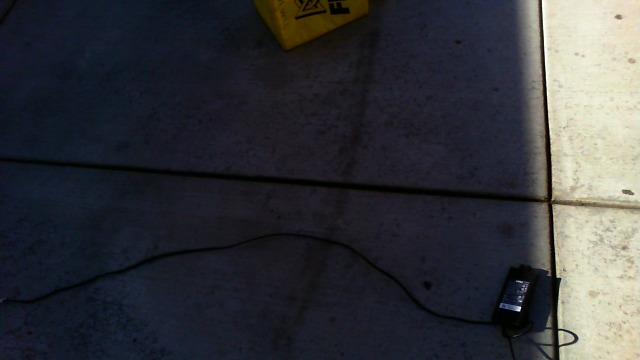cube: (240, 1, 368, 53)
